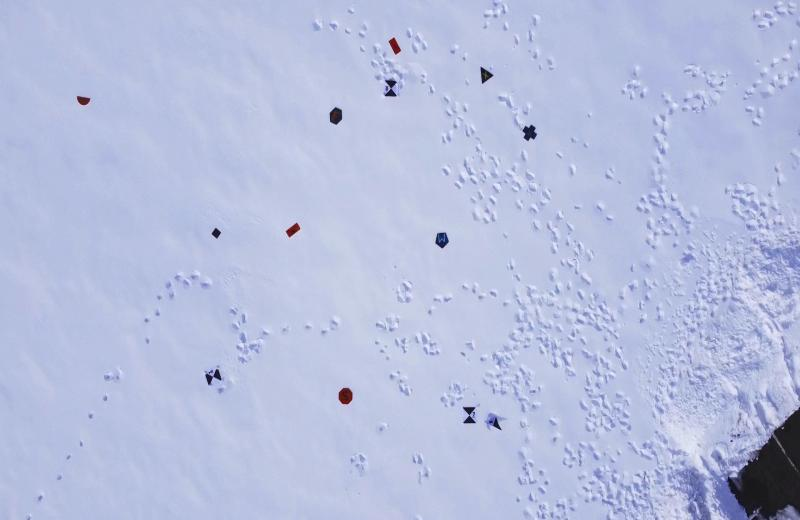Cross: (521, 123, 538, 141)
Hexagon: (328, 107, 344, 126), (387, 36, 402, 56)
Octagon: (337, 387, 353, 405)
Pentagon: (434, 231, 450, 249)
Rectangle: (286, 221, 301, 239)
Semi Circle: (75, 95, 92, 106)
Square: (211, 227, 221, 239)
Triangle: (479, 66, 494, 85)
